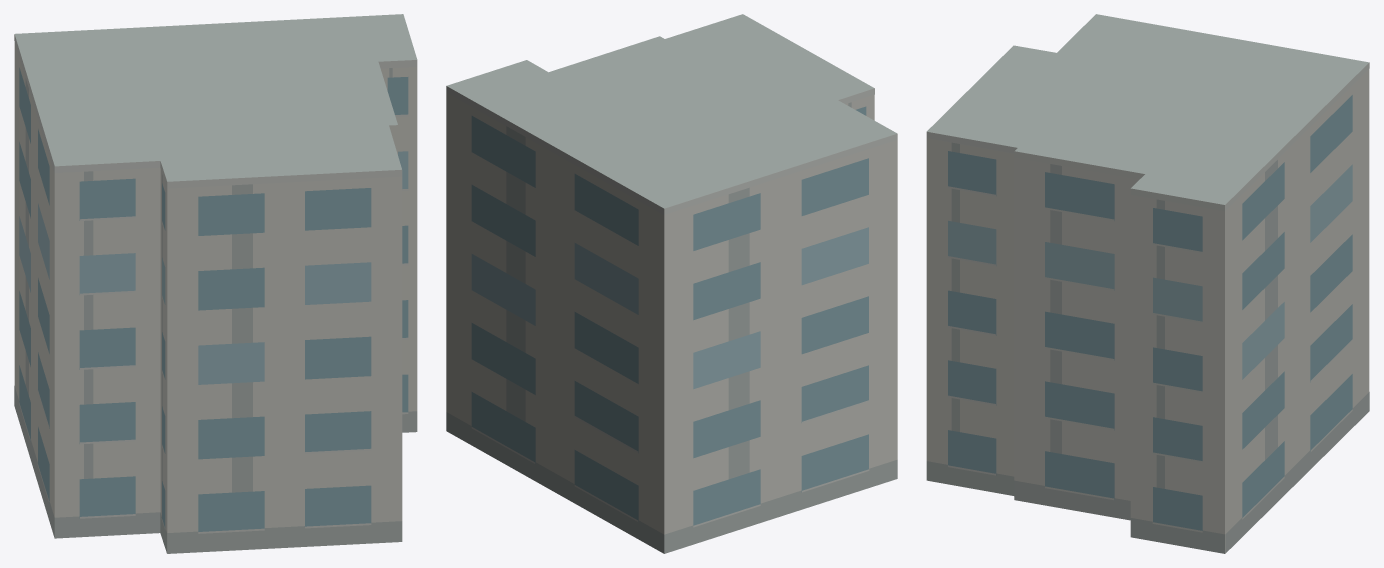
File: survey-upis-32994384.glb
The picture shows the model from 3 angles, left to right: view 1: azimuth 30°, elevation 25°; view 2: azimuth 150°, elevation 25°; view 3: azimuth 270°, elevation 25°; orthographic projection. The views are drawn at different scales.
Parts seen in each view (by area): view 1: survey-upis-32994384.tmp; view 2: survey-upis-32994384.tmp; view 3: survey-upis-32994384.tmp.
Boxes of the visible parts, bbox=[...] form: survey-upis-32994384.tmp: bbox=[14, 14, 417, 553]; survey-upis-32994384.tmp: bbox=[446, 14, 897, 553]; survey-upis-32994384.tmp: bbox=[926, 14, 1369, 553].
Bounding box in the file's own units: 15.51 × 13.2 × 15.2.
